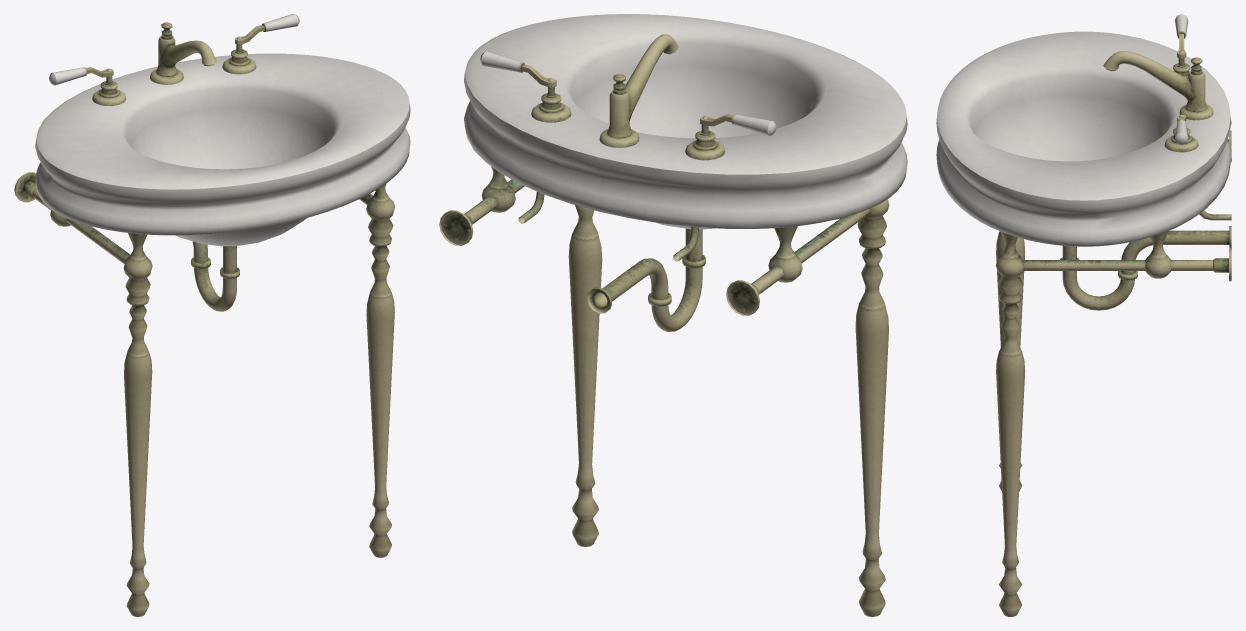
The model's file is WC_sink.fbx.
3 views of the same model, side by side, from view 1: azimuth 30°, elevation 25°; view 2: azimuth 150°, elevation 25°; view 3: azimuth 270°, elevation 25° (orthographic). The views are drawn at different scales.
Visible parts, largest first — view 1: WC_sink_LOD0; view 2: WC_sink_LOD0; view 3: WC_sink_LOD0.
Boxes of the visible parts, x1,y1,x2,y2 form: WC_sink_LOD0: [14, 14, 410, 616]; WC_sink_LOD0: [439, 14, 907, 616]; WC_sink_LOD0: [936, 14, 1231, 616].
Size of what is drawn, in the model's own units: 70 by 96.8 by 51.5.
